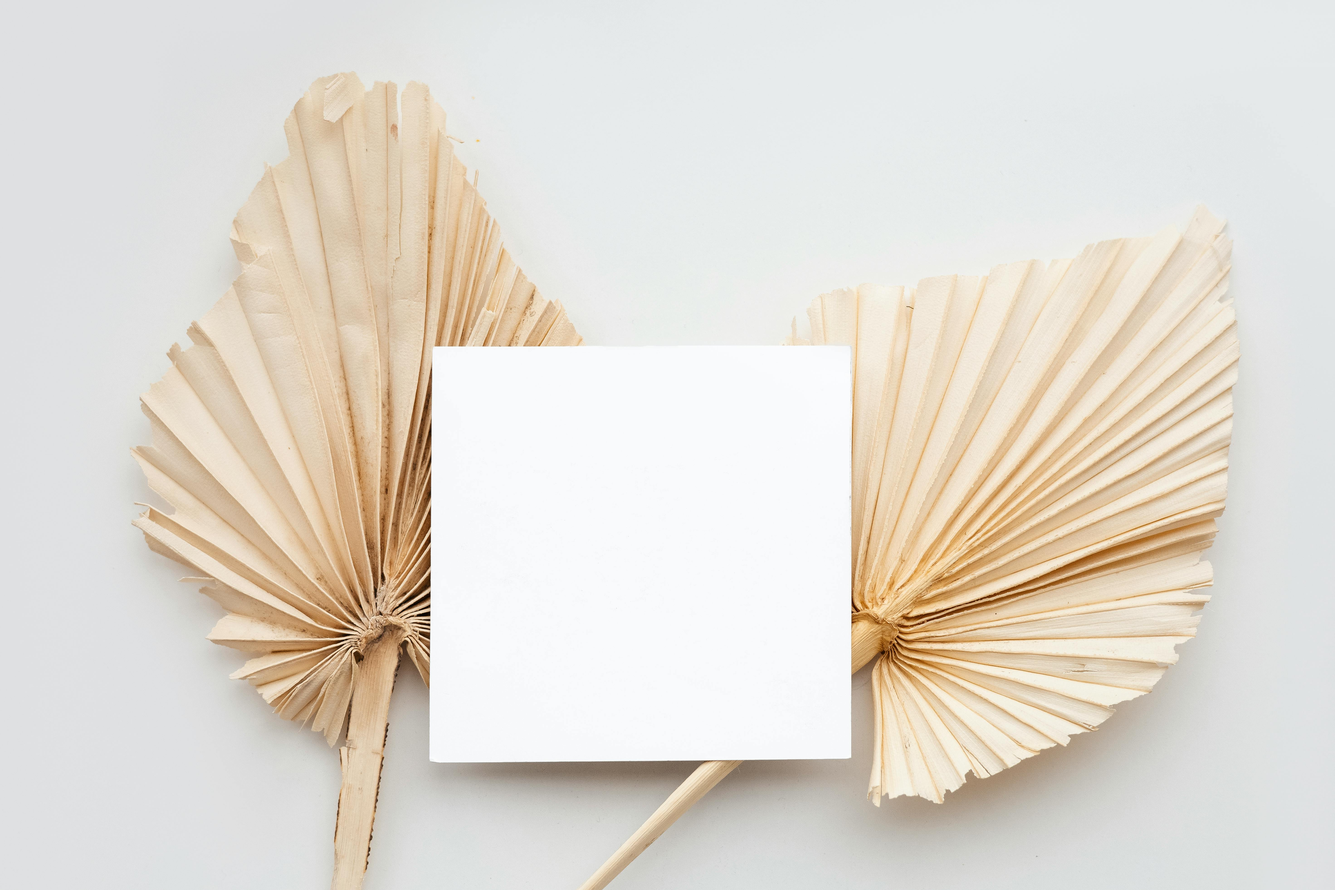paper: (430, 345, 853, 762)
